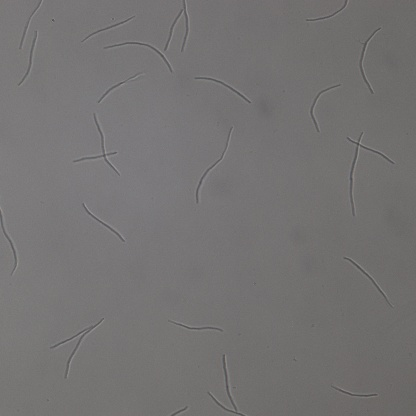Sensitive: (346, 132, 395, 216), (50, 318, 104, 378), (195, 127, 234, 203), (74, 112, 121, 174), (344, 256, 393, 307), (207, 354, 246, 416), (103, 39, 173, 71), (310, 81, 341, 133), (83, 204, 125, 242), (195, 75, 251, 103), (359, 28, 382, 95), (81, 15, 135, 41), (164, 1, 192, 51), (99, 71, 142, 102), (19, 30, 40, 85), (1, 212, 19, 275), (306, 1, 350, 24), (20, 1, 41, 48), (331, 383, 378, 402), (169, 319, 223, 335)
